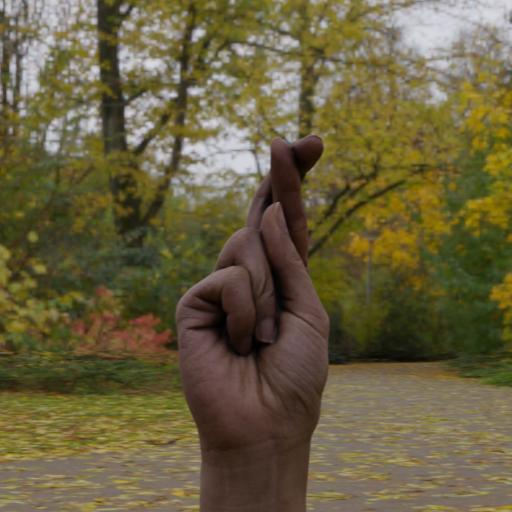R: (156, 124, 363, 482)
